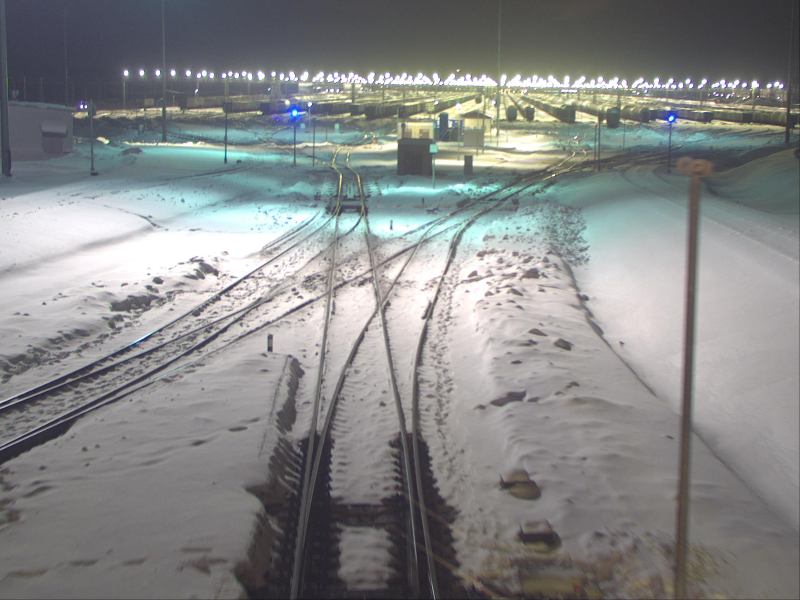right: (289, 293, 450, 598)
